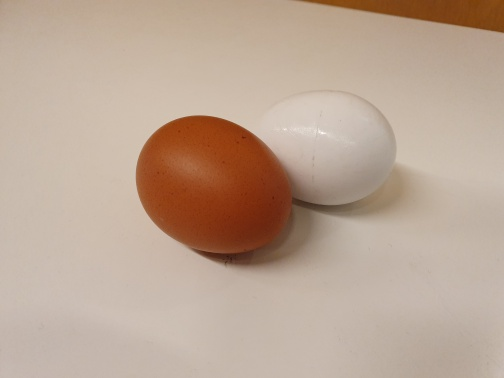egg: (135, 115, 293, 254), (260, 90, 397, 205)
